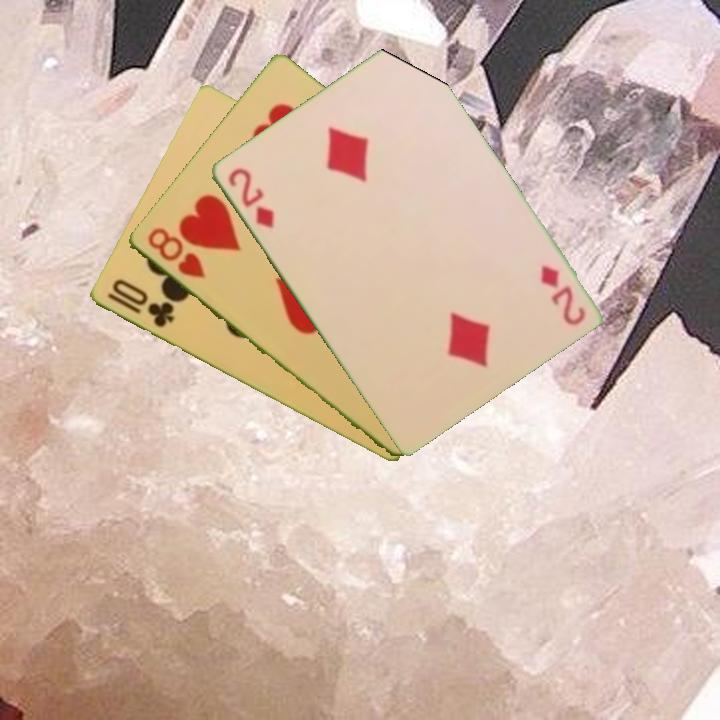10c: (103, 275, 177, 331)
2d: (223, 164, 277, 231), (536, 261, 588, 329)
8h: (143, 224, 208, 282)
